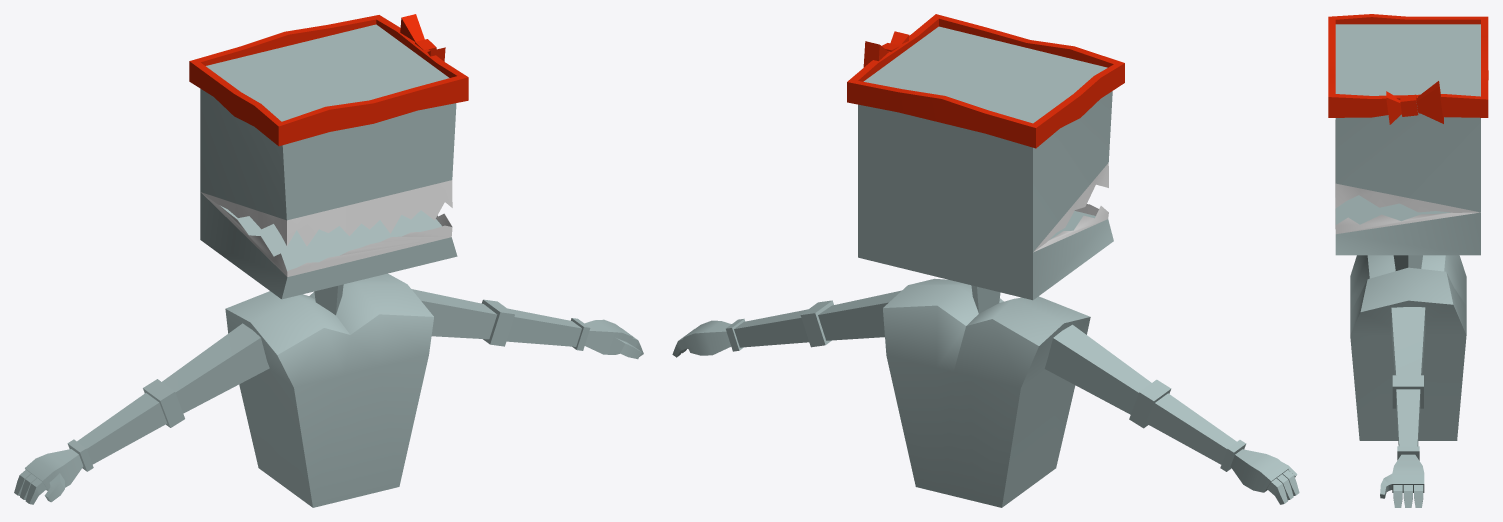
Rendered from KonroTest_BlenderUV_01.fbx.
The picture shows the model from 3 angles, left to right: view 1: azimuth 30°, elevation 25°; view 2: azimuth 150°, elevation 25°; view 3: azimuth 270°, elevation 25°; orthographic projection. The views are drawn at different scales.
Visible parts, largest first — view 1: Konro; view 2: Konro; view 3: Konro.
Boxes of the visible parts, box(x1,y1,x2,y2) form: Konro: box(14, 14, 643, 507); Konro: box(672, 14, 1299, 507); Konro: box(1328, 14, 1488, 507).
Bounding box in the file's own units: 8.74 × 5.78 × 2.2.
